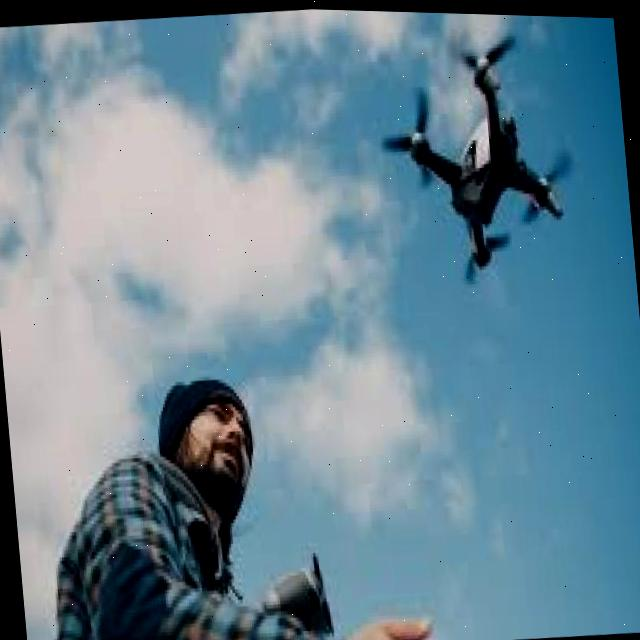drone: (377, 29, 593, 291)
